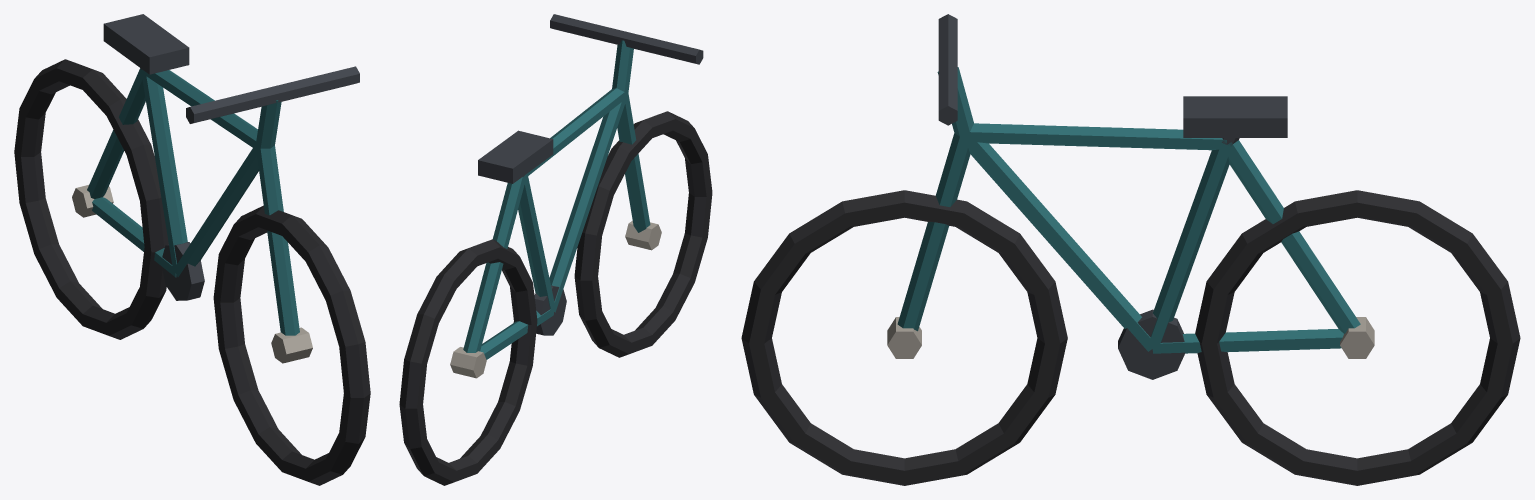
Rendered from bicycle.glb.
3 views of the same model, side by side, from view 1: azimuth 30°, elevation 25°; view 2: azimuth 150°, elevation 25°; view 3: azimuth 270°, elevation 25° (orthographic). The views are drawn at different scales.
Visible parts, largest first — view 1: bicycle; view 2: bicycle; view 3: bicycle.
Part boxes in pixels (x1=…): bicycle: x1=14, y1=14, x2=370, y2=485; bicycle: x1=399, y1=14, x2=712, y2=485; bicycle: x1=741, y1=14, x2=1520, y2=485.
Size of the model in its own units: 0.5 by 1.08 by 1.79.
